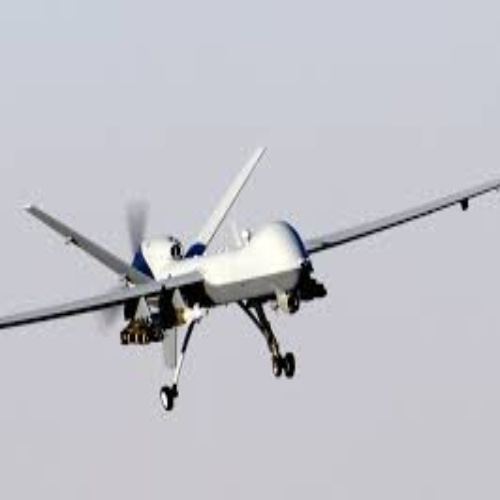uav: (5, 145, 500, 402)
